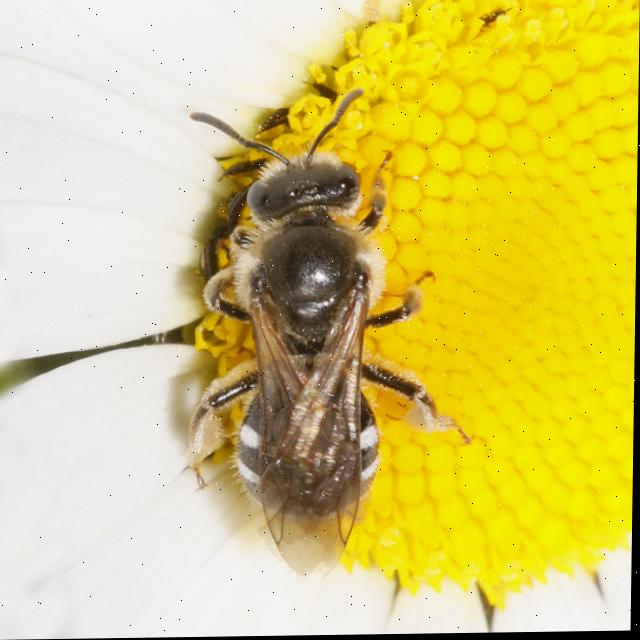Lasioglossum: (158, 88, 460, 577)
